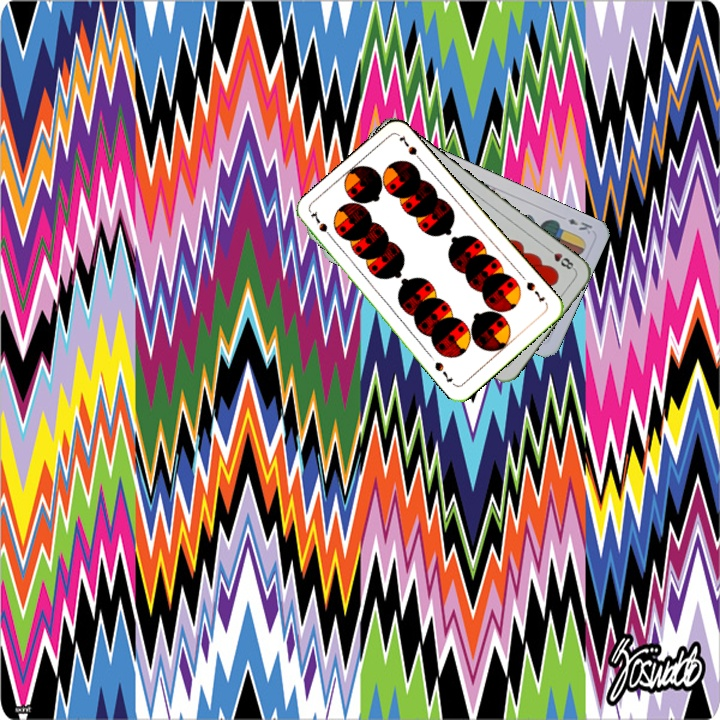EK: (564, 215, 595, 237)
H8: (542, 244, 578, 273)
S7: (306, 209, 337, 244), (522, 278, 548, 305)
